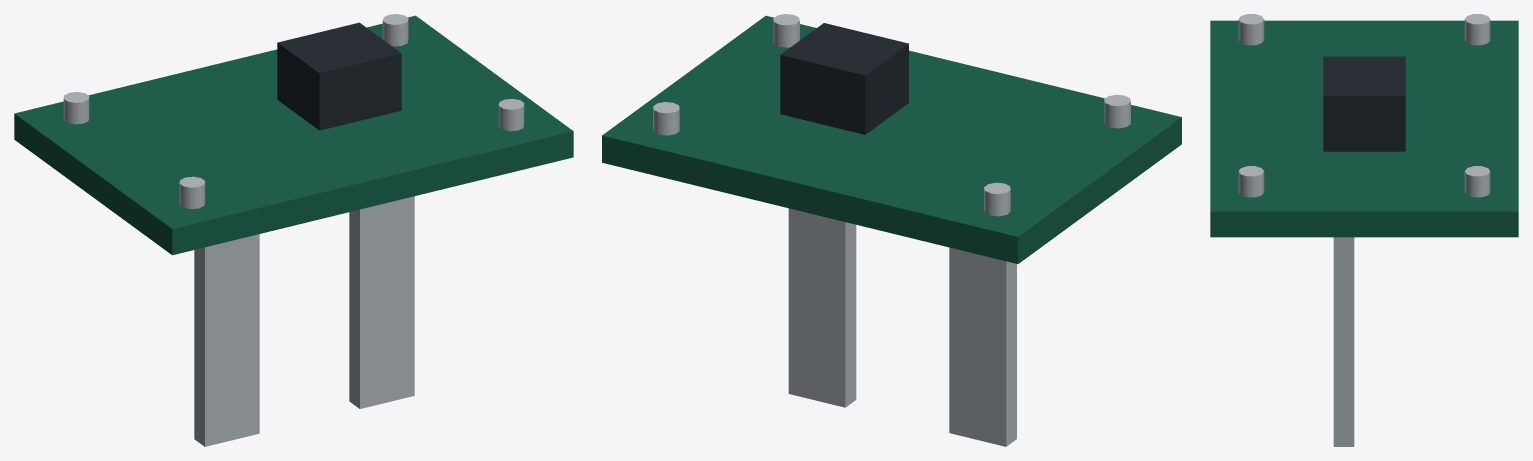
Rendered from catalogue-sensor.glb.
The picture shows the model from 3 angles, left to right: view 1: azimuth 30°, elevation 25°; view 2: azimuth 150°, elevation 25°; view 3: azimuth 270°, elevation 25°; orthographic projection. The views are drawn at different scales.
Size of the model in its own units: 0.88 by 0.735 by 0.6.
